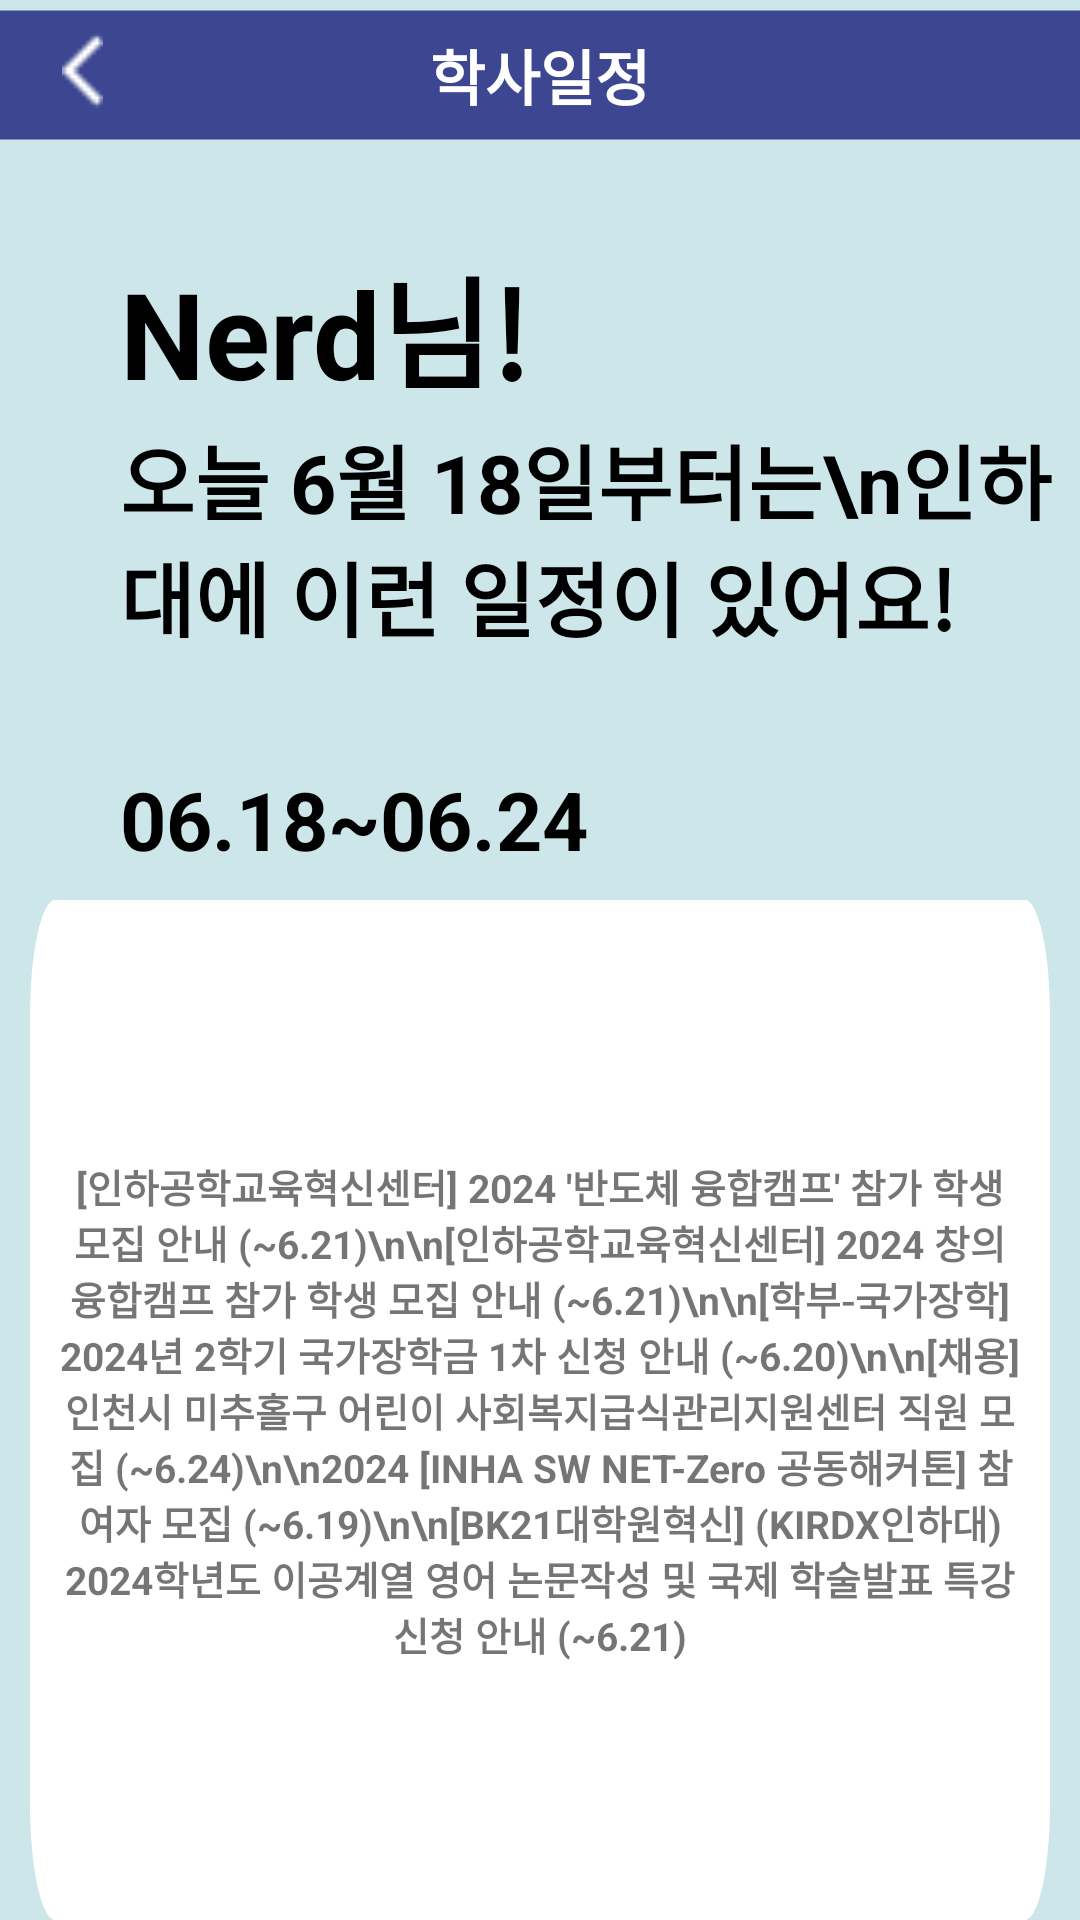

Icons on this 1080px x 1920px Android screen, each with its box as box=[x1, y1, x2, y2]:
arrow left: box=[62, 35, 103, 106]
